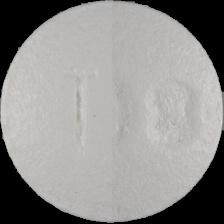0093-5061: (0, 0, 224, 224)
